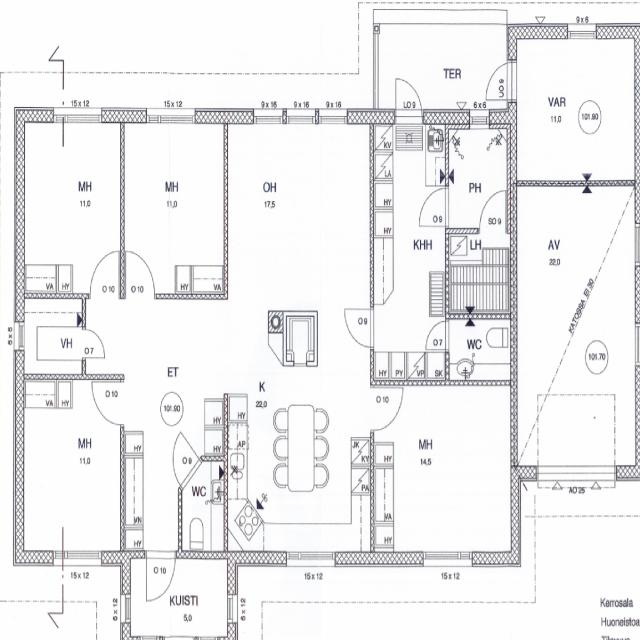door: (162, 432, 201, 488), (146, 552, 176, 603), (90, 381, 124, 425), (371, 387, 404, 431), (90, 252, 119, 299), (125, 252, 154, 299), (396, 70, 422, 122), (480, 62, 516, 99), (344, 308, 374, 347), (419, 187, 449, 226), (480, 190, 506, 233), (425, 320, 449, 349), (82, 329, 105, 357)
